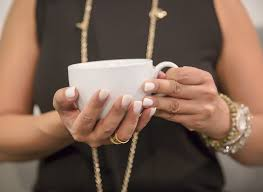hand: (142, 49, 236, 138), (44, 81, 141, 152)
